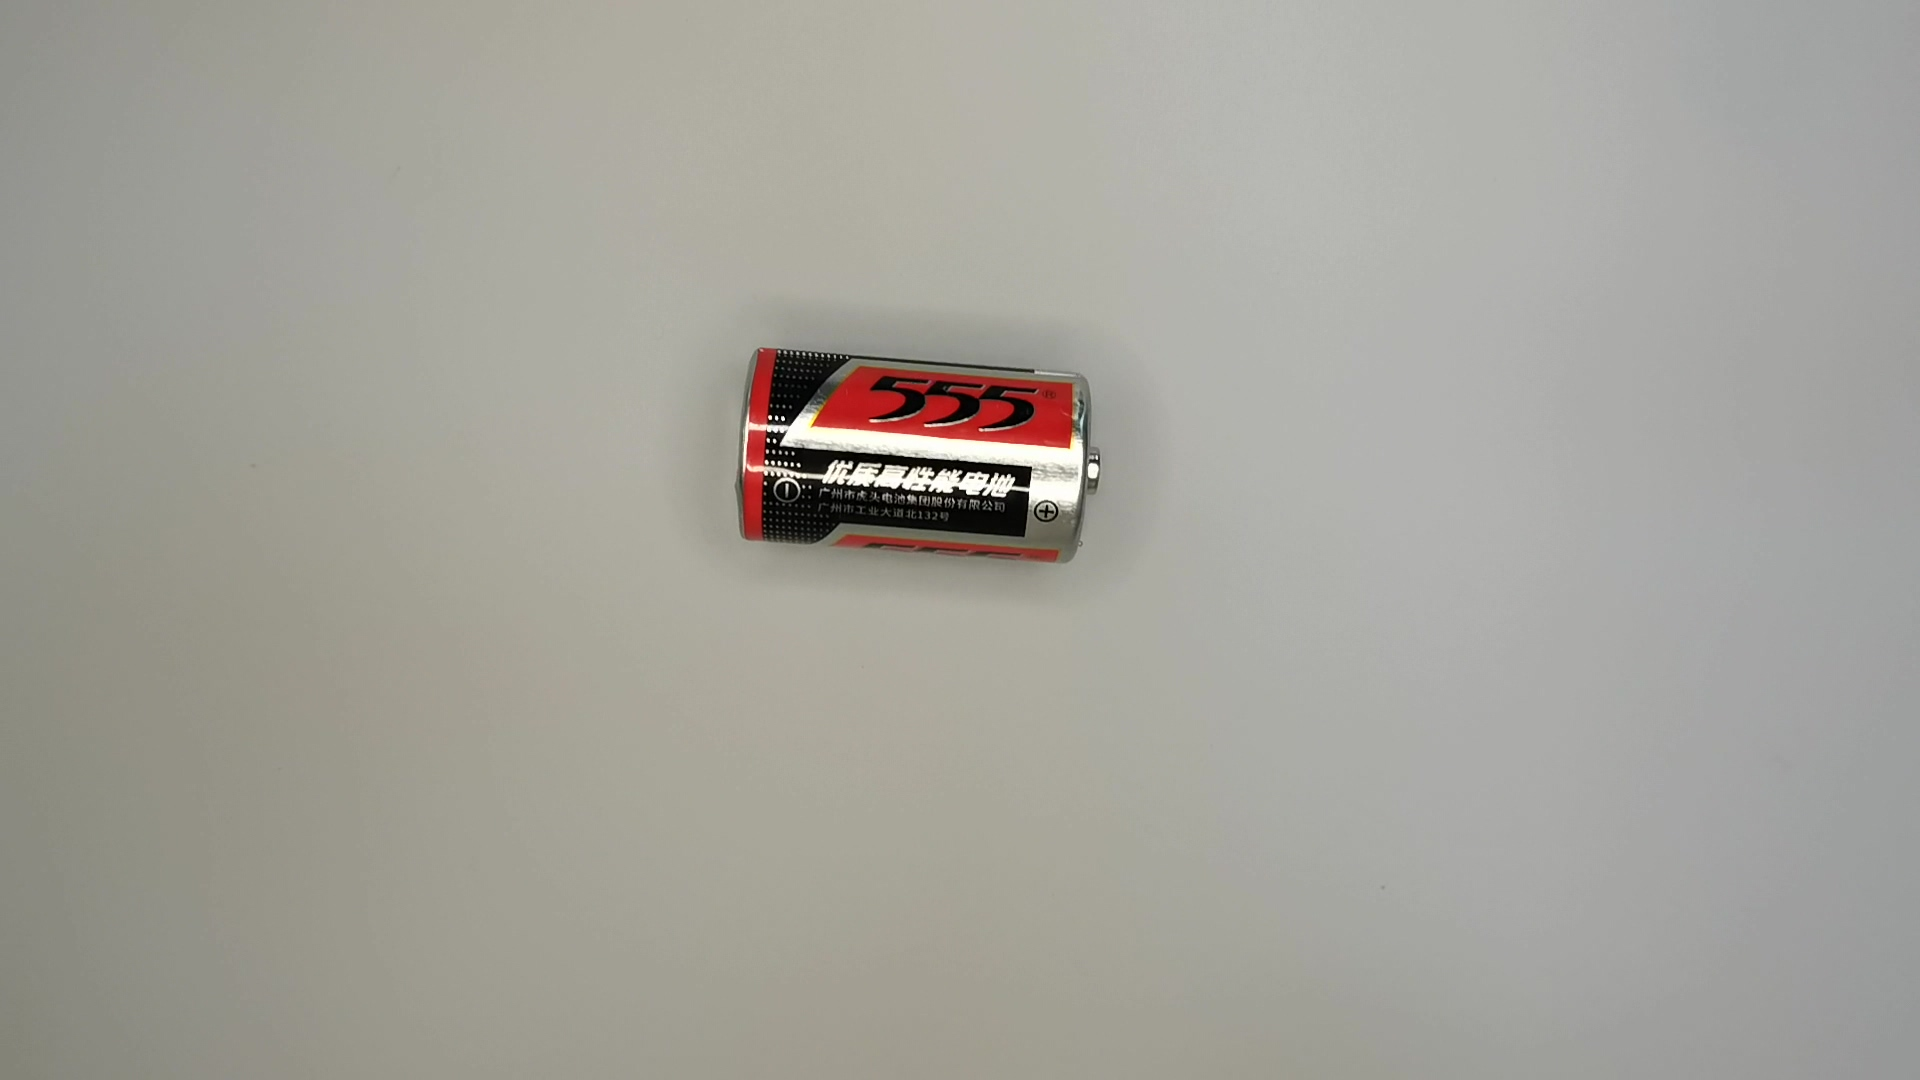battery: (735, 342, 1106, 576)
